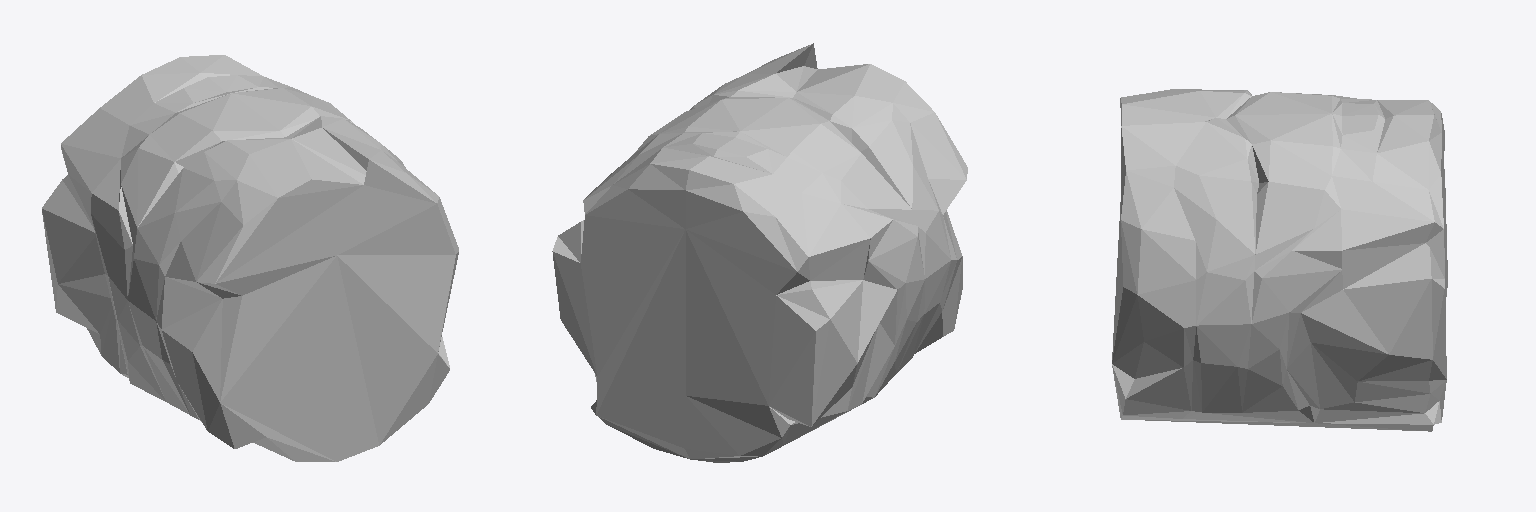
File: AvalancheR2.OBJ
3 views of the same model, side by side, from view 1: azimuth 30°, elevation 25°; view 2: azimuth 150°, elevation 25°; view 3: azimuth 270°, elevation 25° (orthographic).
Parts seen in each view (by area): view 1: Group13660; view 2: Group13660; view 3: Group13660.
Part boxes in pixels (bbox=[...]): Group13660: bbox=[42, 55, 458, 461]; Group13660: bbox=[552, 43, 967, 462]; Group13660: bbox=[1112, 89, 1447, 431].
Size of the model in its own units: 2.07 by 2.04 by 2.09.